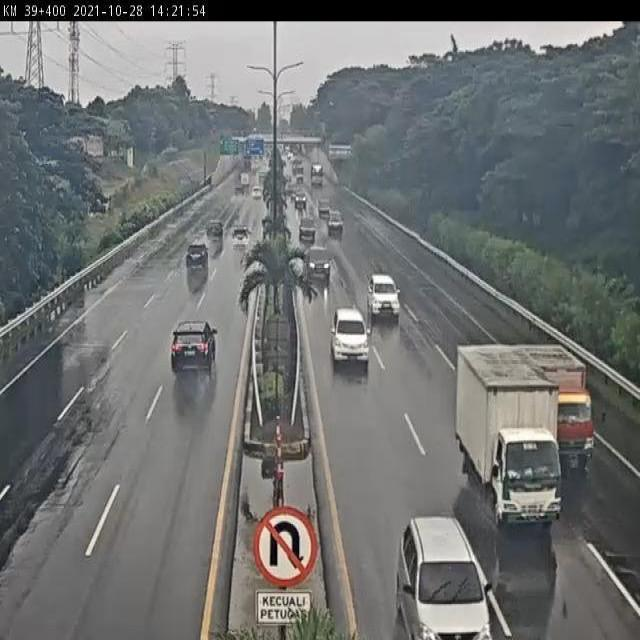car: (395, 517, 494, 640), (170, 317, 223, 376), (332, 308, 370, 367), (365, 269, 403, 319), (185, 240, 211, 273), (305, 242, 331, 274), (230, 225, 253, 252), (205, 221, 224, 243)
truck-m-: (456, 343, 566, 521)
truck-s-: (522, 344, 596, 468)
